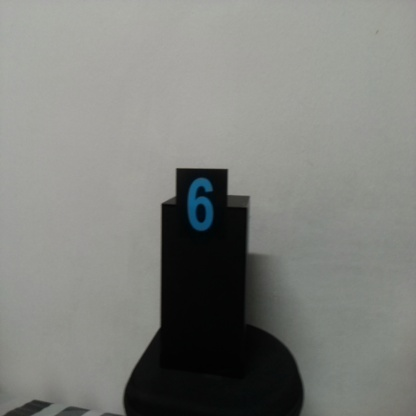id_6: (174, 169, 229, 254)
